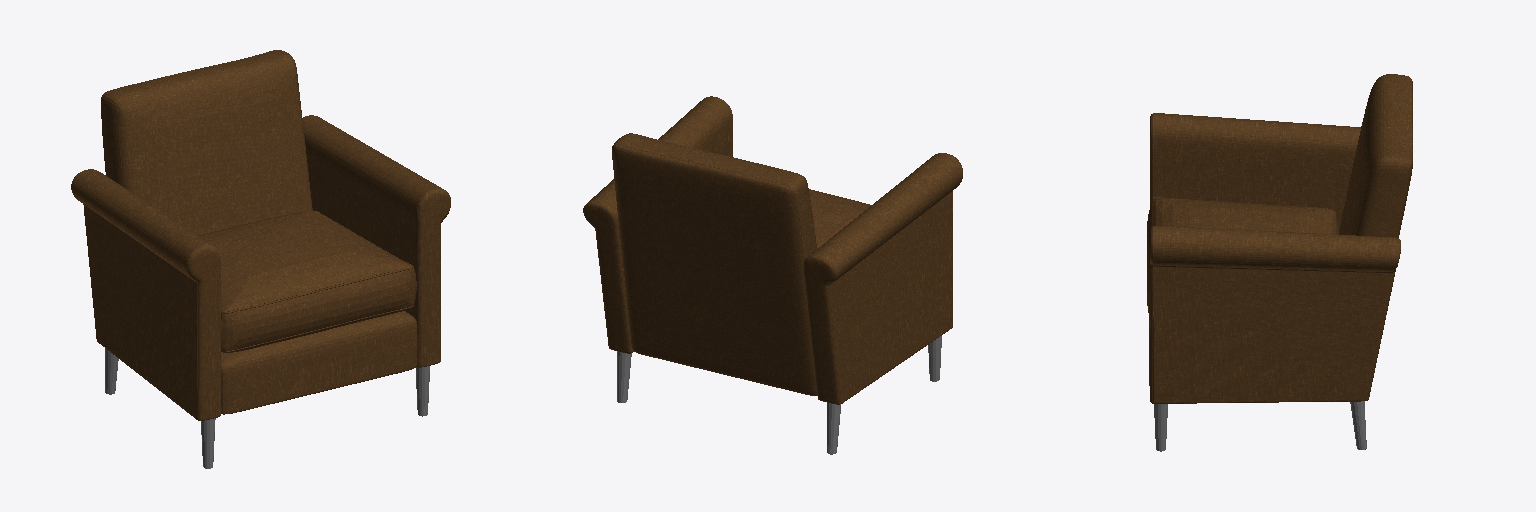
The picture shows the model from 3 angles: view 1: azimuth 30°, elevation 25°; view 2: azimuth 150°, elevation 25°; view 3: azimuth 270°, elevation 25°; orthographic projection.
Parts seen in each view (by area): view 1: unknown_tuscany; view 2: unknown_tuscany; view 3: unknown_tuscany.
Part boxes in pixels (bbox=[...]): unknown_tuscany: bbox=[71, 50, 450, 468]; unknown_tuscany: bbox=[583, 96, 962, 454]; unknown_tuscany: bbox=[1147, 74, 1412, 451].
Size of the model in its own units: 103 by 105 by 89.96.
Materials: 2 (1 with a texture image).